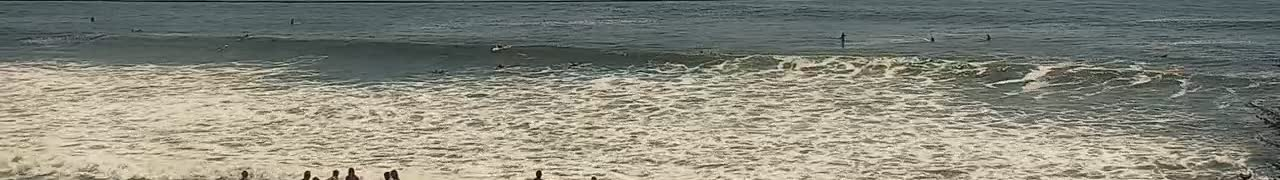Surfer: (835, 31, 853, 46), (492, 61, 510, 73), (489, 42, 507, 53), (568, 59, 586, 70), (921, 34, 937, 43), (978, 32, 993, 41), (289, 16, 303, 25), (1152, 53, 1172, 58), (129, 27, 145, 33), (88, 15, 97, 23)
